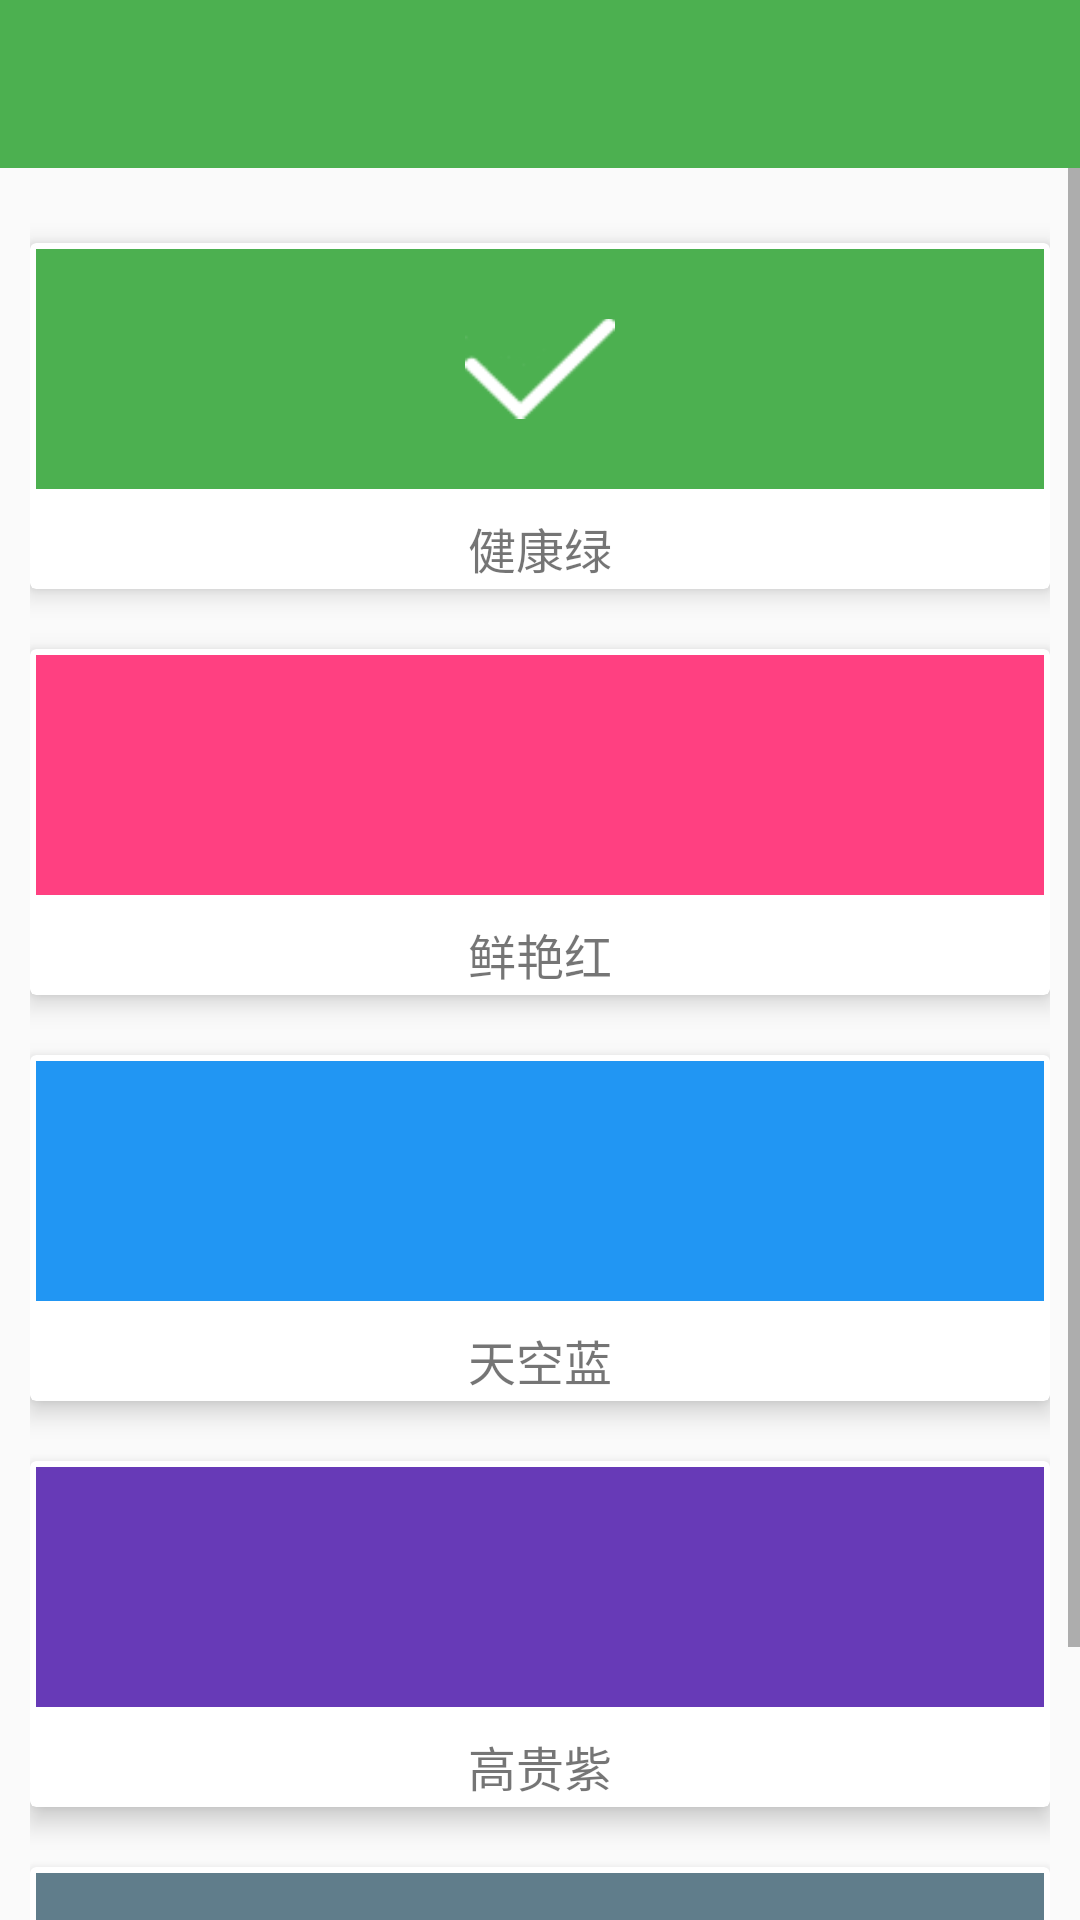

Icons on this 1080x1920 Android screen, each with the point to tap as (x,y):
skin select: (540,369)
